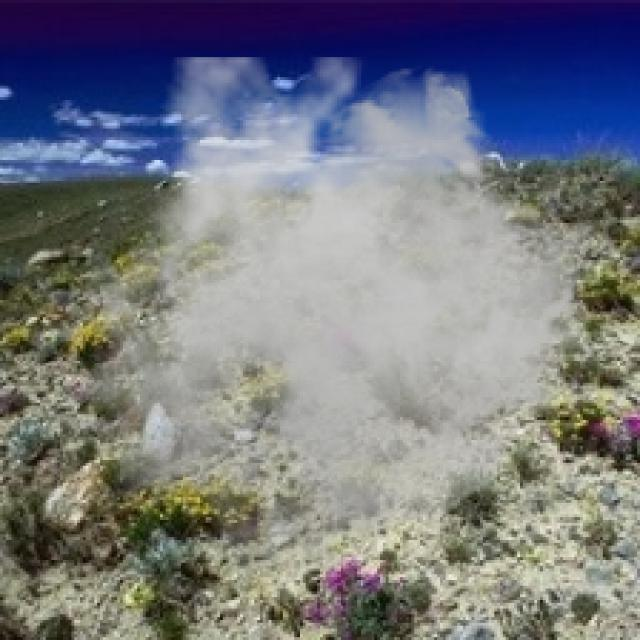Smoke: (74, 57, 600, 580)
